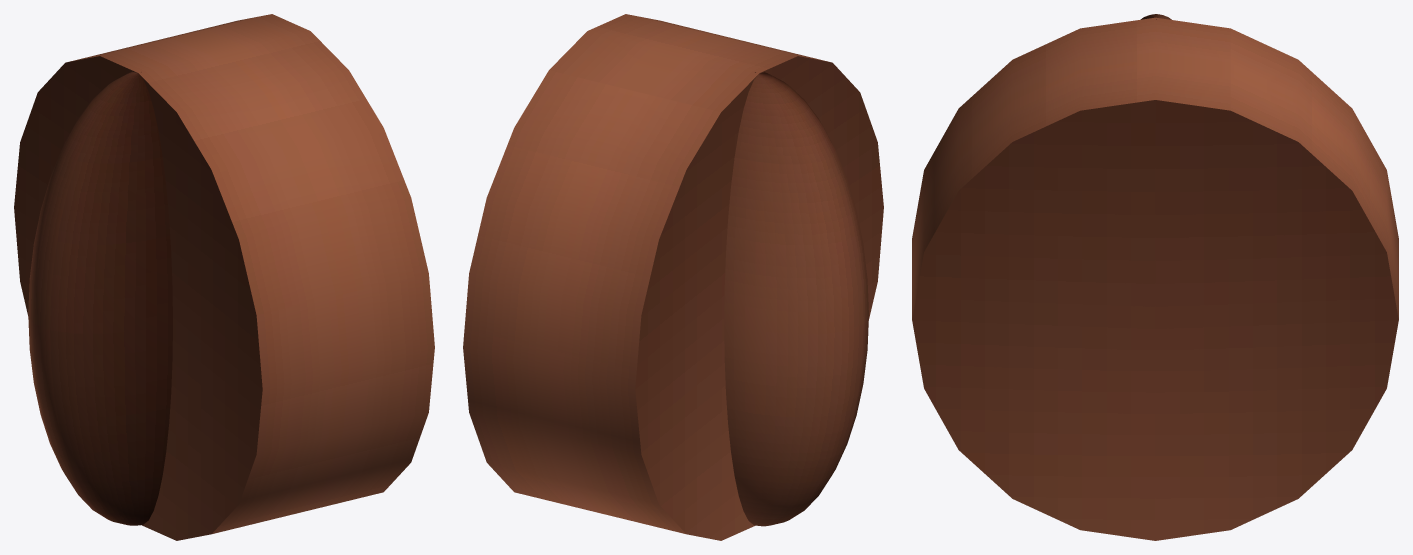
File: perilla1.obj
3 renders of one model, left to right at view 1: azimuth 30°, elevation 25°; view 2: azimuth 150°, elevation 25°; view 3: azimuth 270°, elevation 25°, orthographic. The views are drawn at different scales.
Visible parts, largest first — view 1: cuarto:cuarto:polySurface11602; view 2: cuarto:cuarto:polySurface11602; view 3: cuarto:cuarto:polySurface11602.
Part boxes in pixels (box(x1,y1,x2,y2)): cuarto:cuarto:polySurface11602: box(14, 14, 434, 540); cuarto:cuarto:polySurface11602: box(463, 14, 883, 540); cuarto:cuarto:polySurface11602: box(912, 14, 1398, 540).
Bounding box in the file's own units: 0.0962 × 0.1498 × 0.1498.
1 material, 1 textured.
